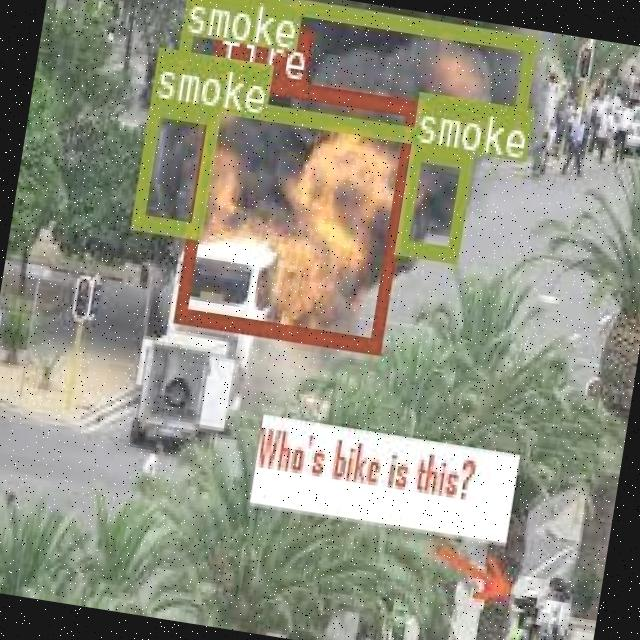fire: (172, 66, 416, 351)
smoke: (168, 0, 535, 156), (130, 100, 218, 234), (393, 144, 472, 260)
